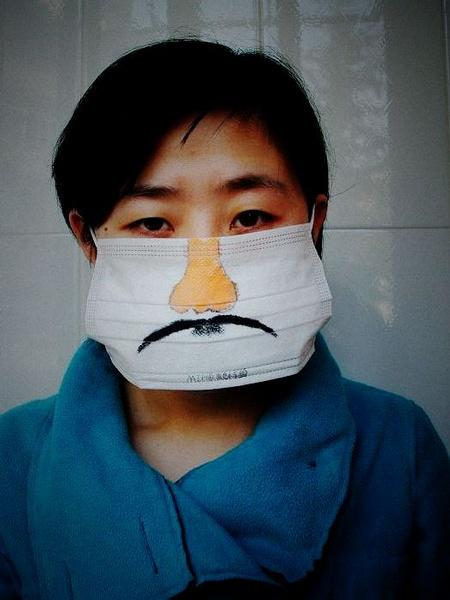OK: (96, 168, 326, 398)
